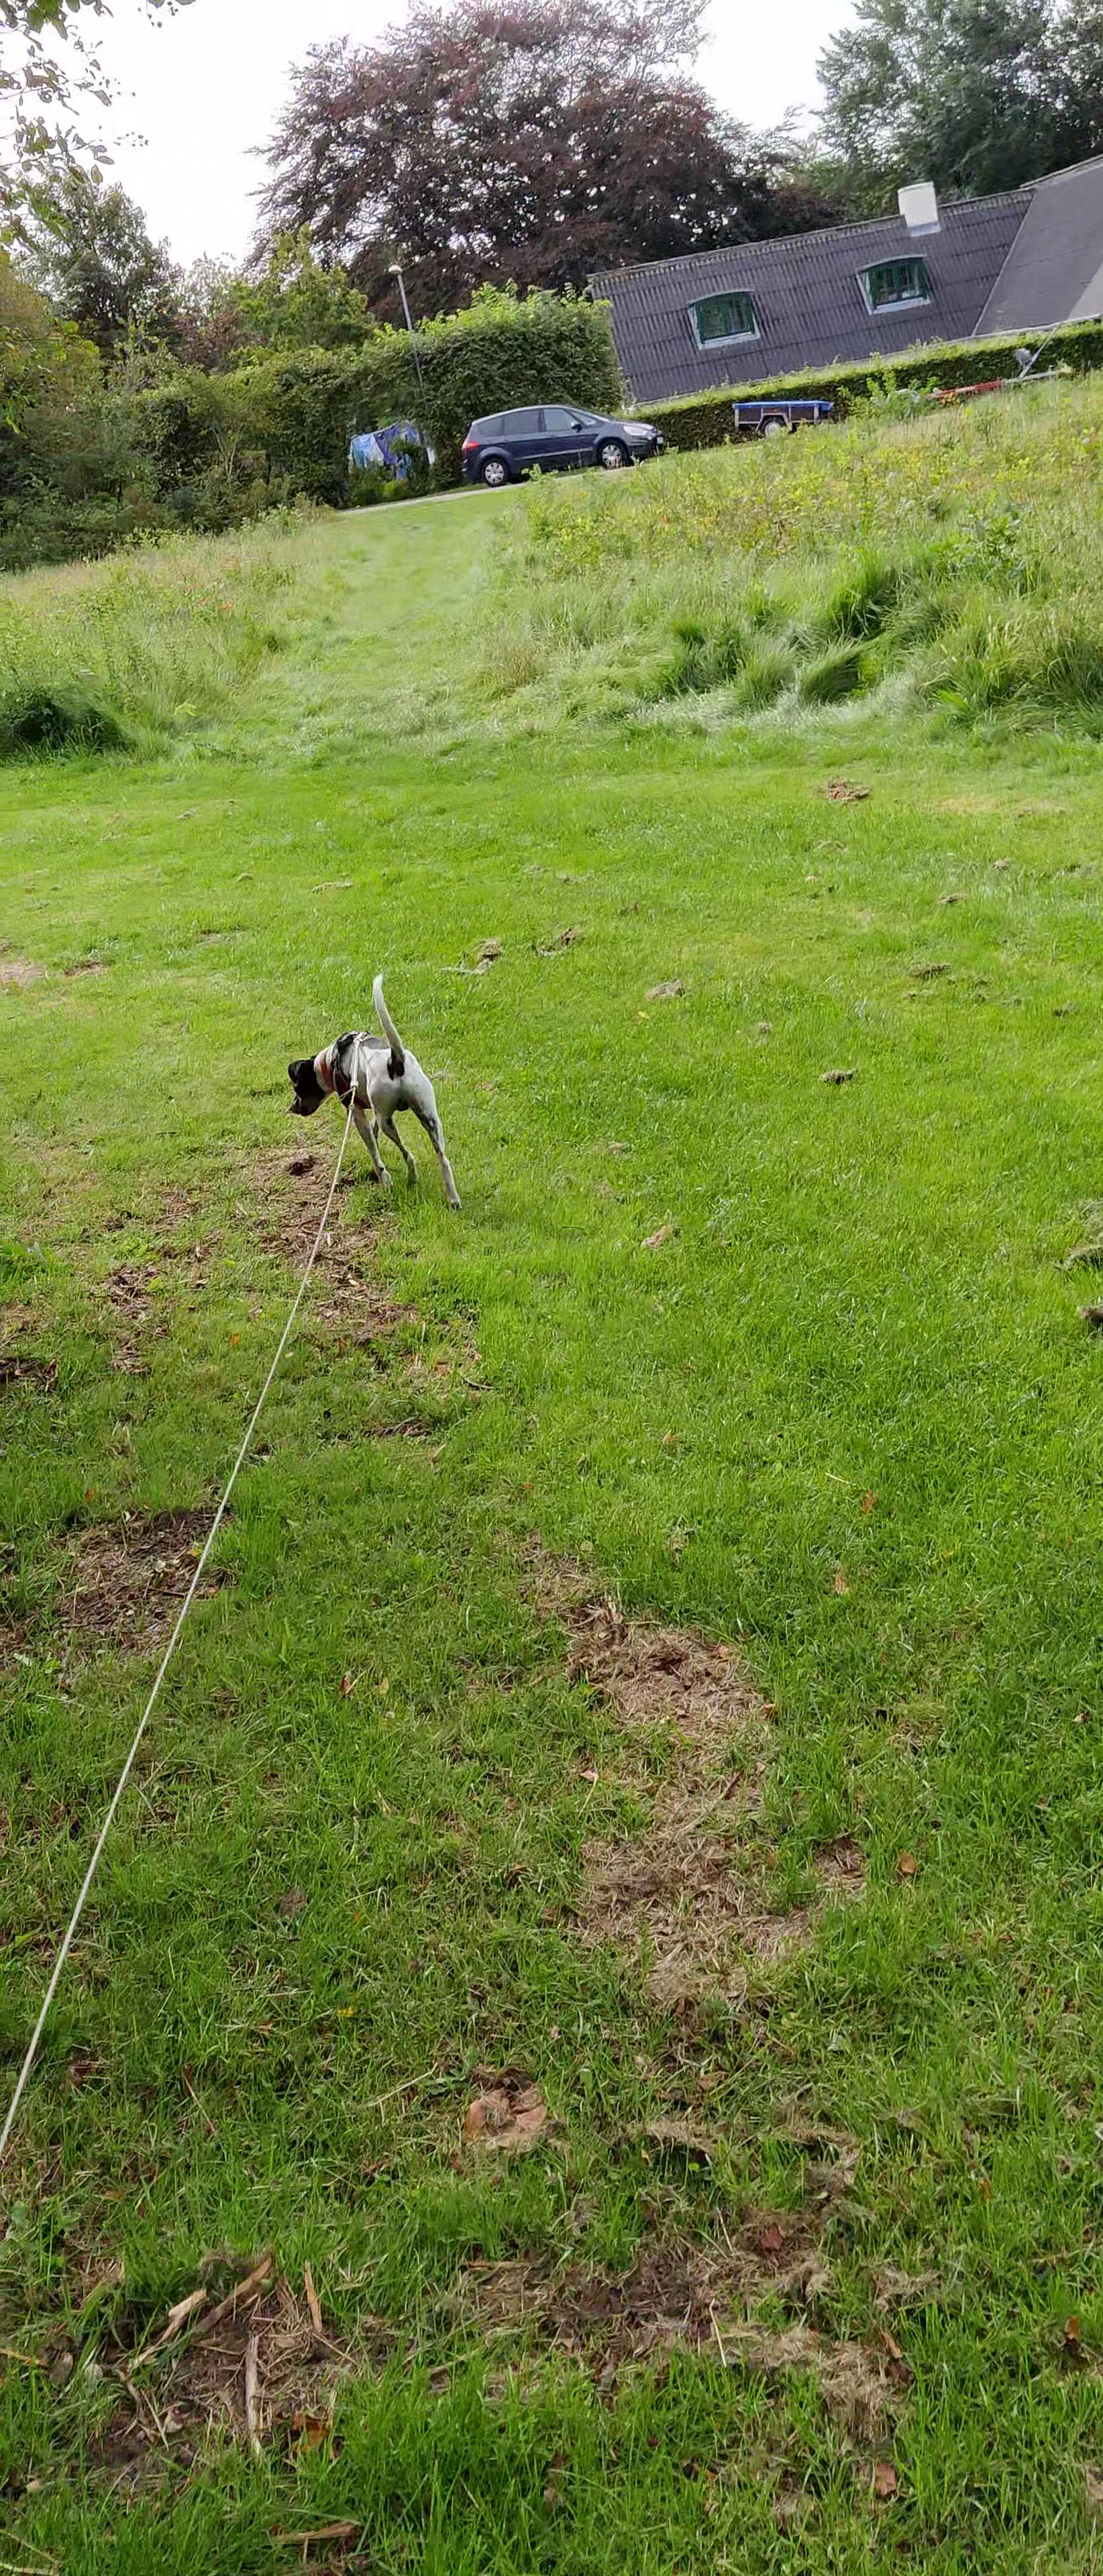Dog: (283, 968, 467, 1214)
